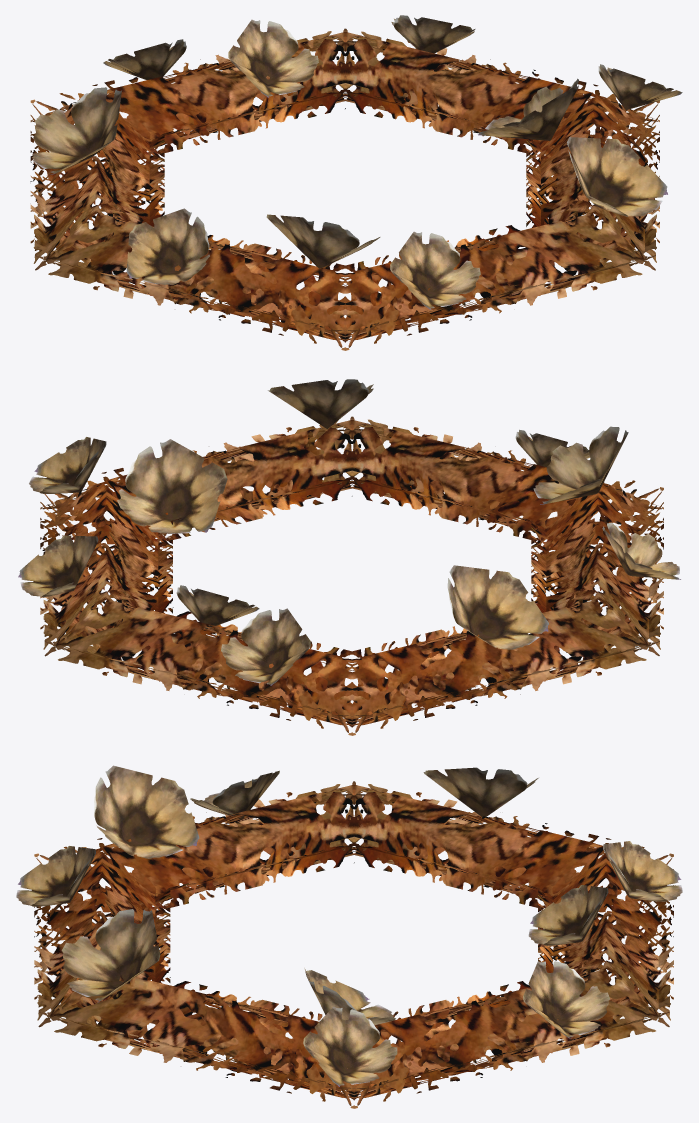
The model's file is flowerswreathdead01.obj.
The picture shows the model from 3 angles, top to bottom: view 1: azimuth 30°, elevation 25°; view 2: azimuth 150°, elevation 25°; view 3: azimuth 270°, elevation 25°; orthographic projection. The views are drawn at different scales.
Parts seen in each view (by area): view 1: flowerswreathdead01; view 2: flowerswreathdead01; view 3: flowerswreathdead01.
Part boxes in pixels (box(x1,y1,x2,y2)): flowerswreathdead01: box(30, 15, 682, 350); flowerswreathdead01: box(18, 379, 680, 735); flowerswreathdead01: box(16, 765, 682, 1108).
Bounding box in the file's own units: 1.57 × 0.3061 × 1.39.
1 material, 1 textured.
